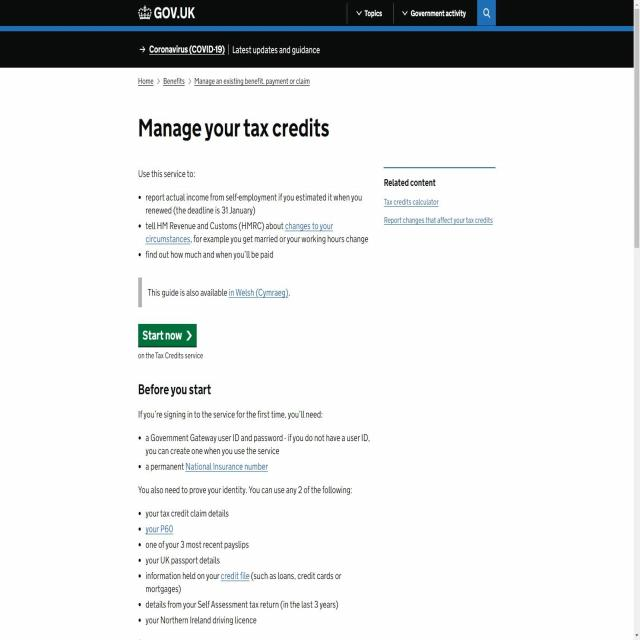button: (138, 324, 196, 346)
select: (400, 7, 468, 20), (355, 6, 385, 20)
